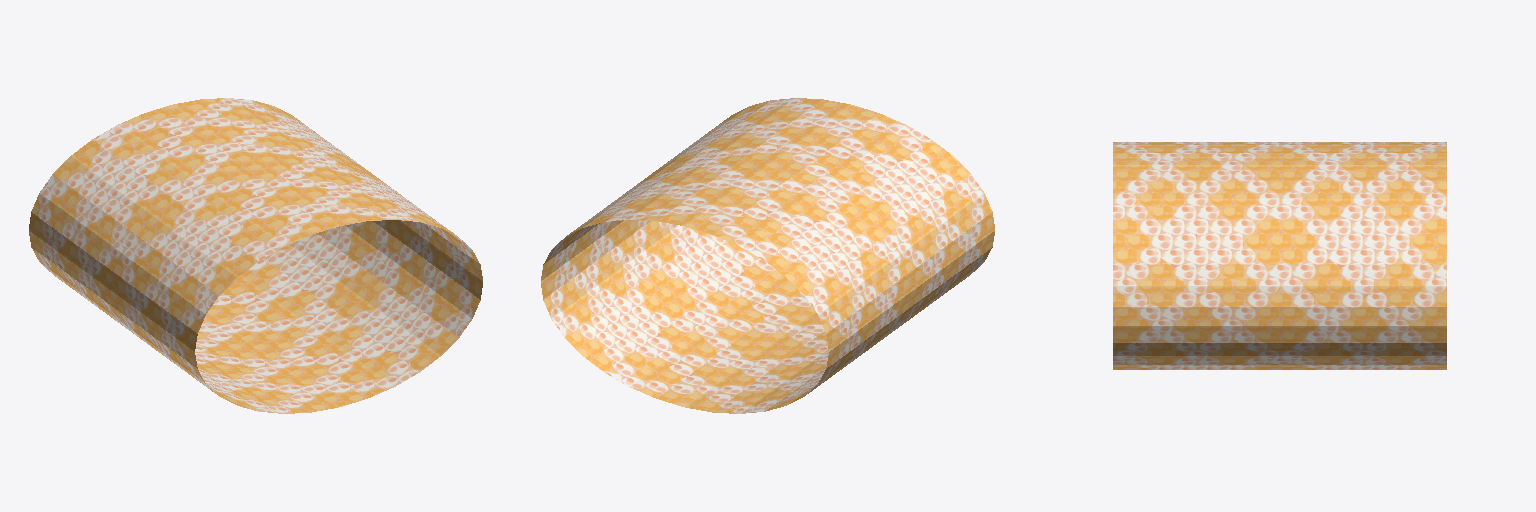
3 views of the same model, side by side, from view 1: azimuth 30°, elevation 25°; view 2: azimuth 150°, elevation 25°; view 3: azimuth 270°, elevation 25° (orthographic).
Parts seen in each view (by area): view 1: Cylinder; view 2: Cylinder; view 3: Cylinder.
Part boxes in pixels (left/top/right/bottom): Cylinder: left=29, top=98, right=482, bottom=413; Cylinder: left=541, top=98, right=994, bottom=413; Cylinder: left=1113, top=142, right=1446, bottom=369.
Bounding box in the file's own units: 1 × 0.6 × 1.
1 materials, 1 textured.